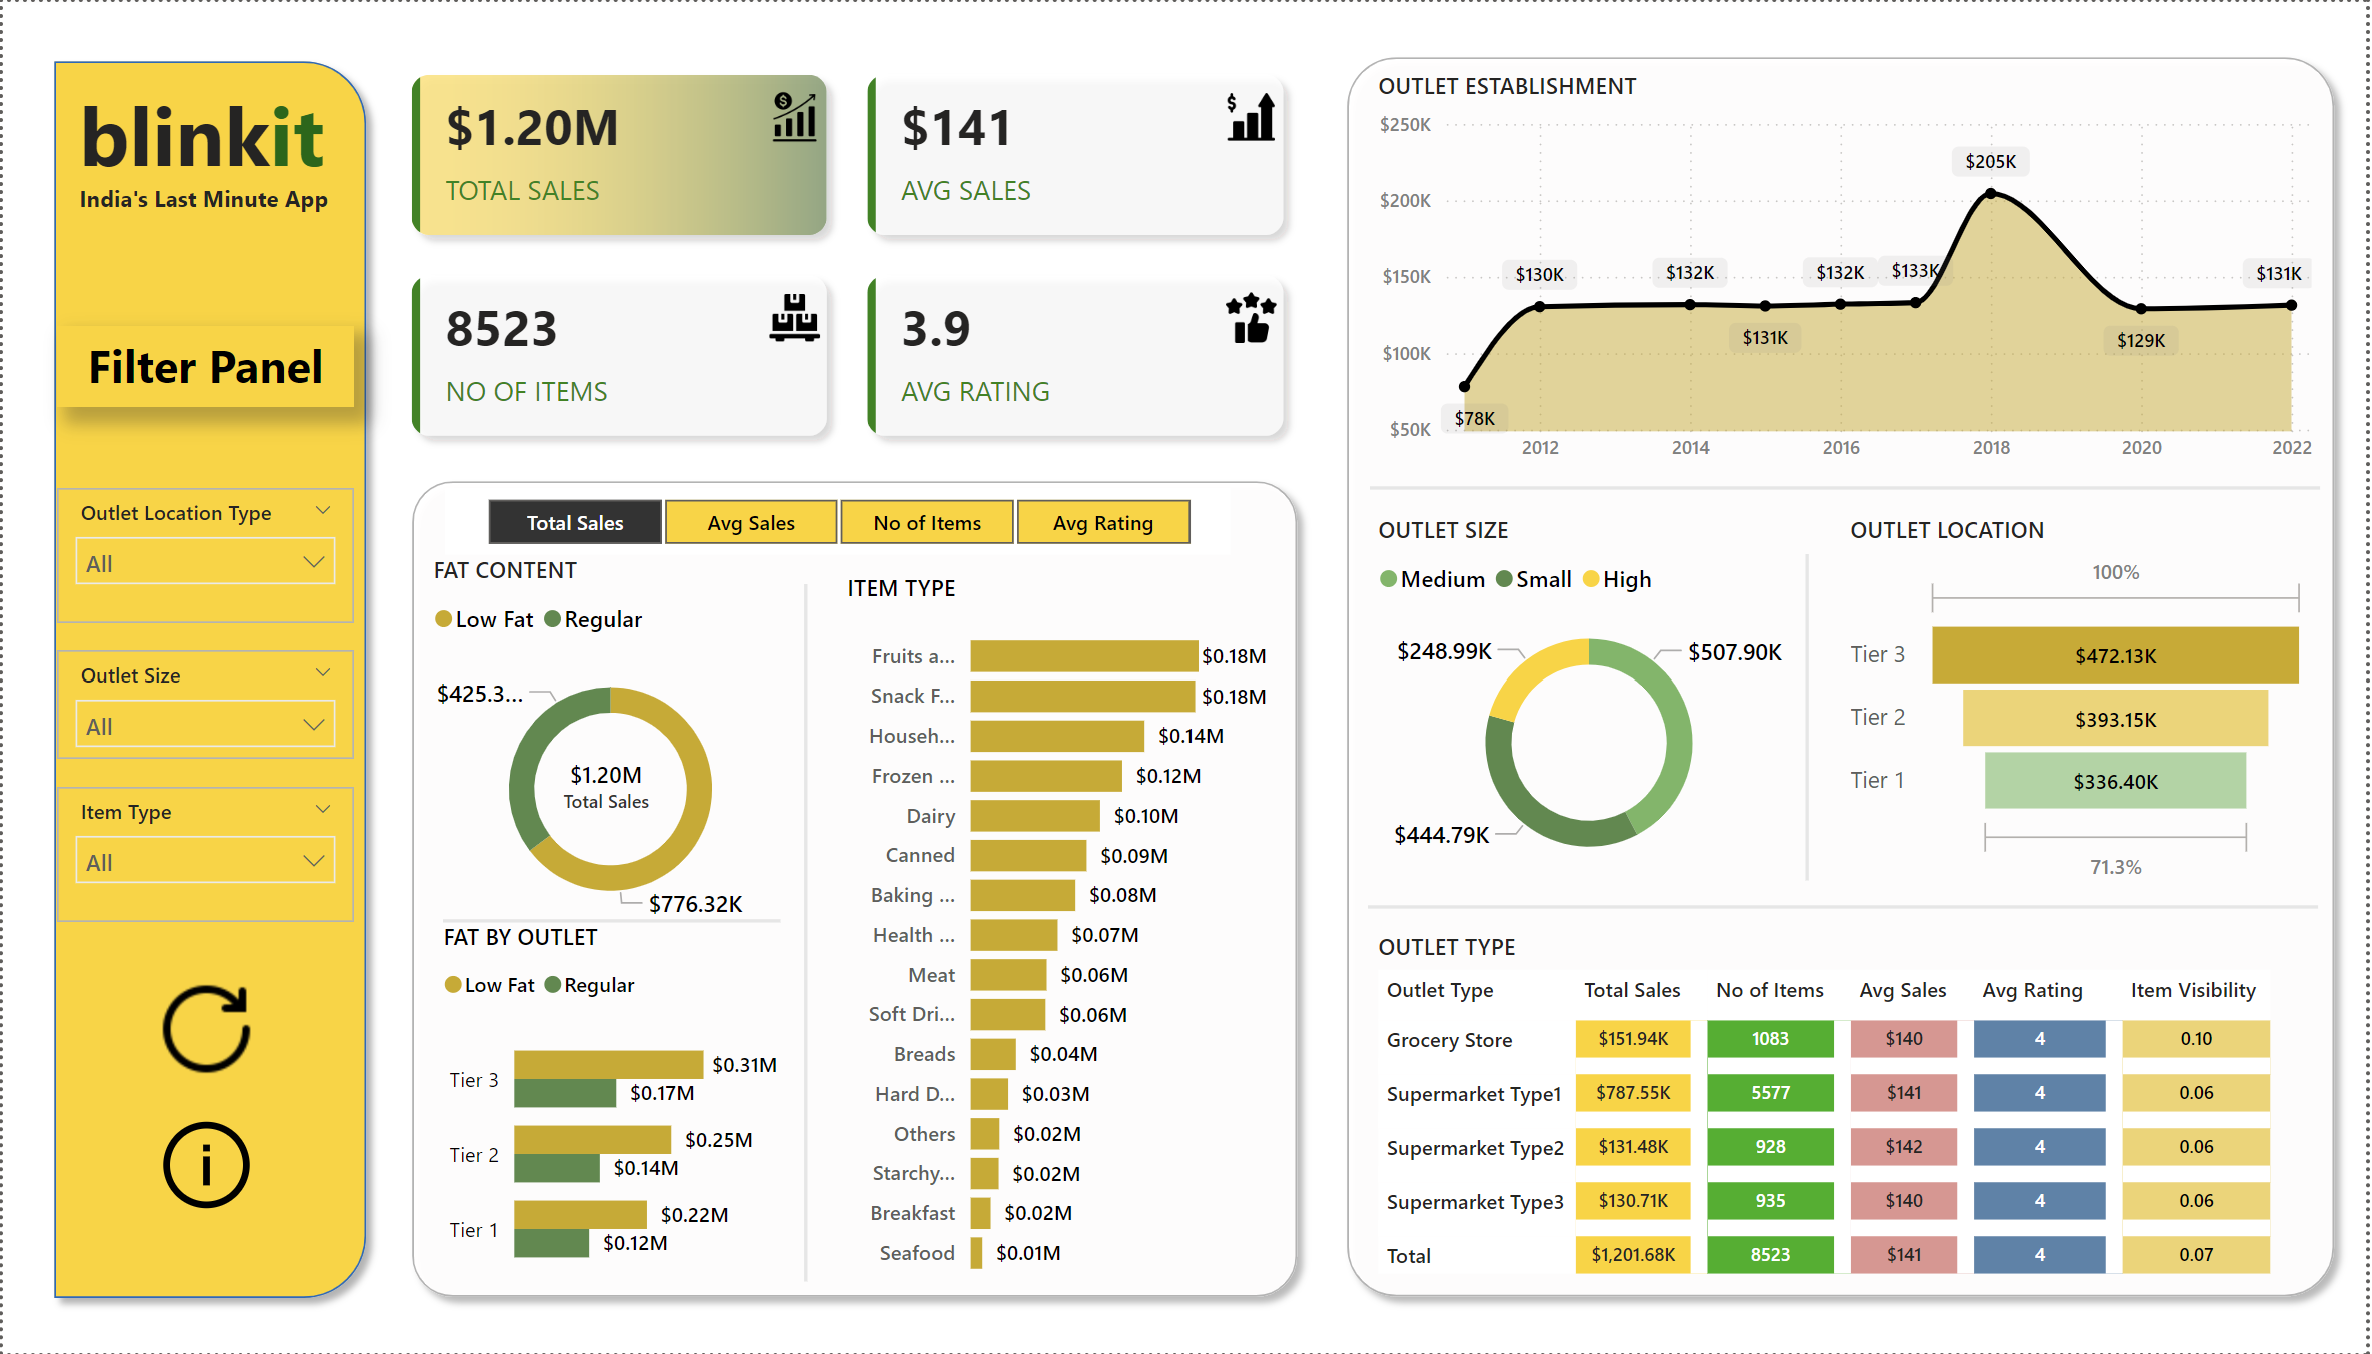

Layout of this report page (visuals, bound fields, positions):
{"tool":"powerbi","page":{"name":"Page 1","canvas":[1400,800],"ordinal":0},"visuals":[{"type":"shape","box":[21.3,25.5,202.8,750.4],"z":0},{"type":"textbox","box":[28.4,39.7,178.7,90.8],"z":1000},{"type":"textbox","box":[39.7,102.1,184.4,28.4],"z":2000},{"type":"cardVisual","fields":{"Data":["BlinkIT Grocery Data.Total Sales","BlinkIT Grocery Data.Avg Sales","BlinkIT Grocery Data.No of Items","BlinkIT Grocery Data.Avg Rating"]},"box":[225.5,25.5,550.4,249.6],"z":3000},{"type":"shape","box":[234,275.2,541.8,500.7],"z":4000},{"type":"donutChart","title":"FAT CONTENT","fields":{"Y":["BlinkIT Grocery Data.Total Sales"],"Category":["BlinkIT Grocery Data.Item Fat Content"]},"box":[249.6,327.7,219.9,229.8],"z":5000},{"type":"slicer","fields":{"Values":["Matrics.Matrics"]},"box":[262.4,287.9,465.2,39.7],"z":6000},{"type":"cardVisual","fields":{"Data":["BlinkIT Grocery Data.Total Sales"]},"box":[297.9,415.6,120.6,95],"z":7000},{"type":"clusteredBarChart","title":"FAT BY OUTLET","fields":{"Y":["BlinkIT Grocery Data.Total Sales"],"Category":["BlinkIT Grocery Data.Outlet Location Type"],"Series":["BlinkIT Grocery Data.Item Fat Content"]},"box":[256,544,208,224],"z":8000},{"type":"shape","box":[260.3,537.2,200,14.1],"z":9000},{"type":"shape","box":[469.5,344.7,12.8,412.8],"z":10000},{"type":"barChart","title":"ITEM TYPE","fields":{"Y":["BlinkIT Grocery Data.Total Sales"],"Category":["BlinkIT Grocery Data.Item Type"]},"box":[495,337.6,258.2,427],"z":11000},{"type":"shape","box":[787.2,24.1,602.8,751.8],"z":12000},{"type":"lineChart","title":"OUTLET ESTABLISHMENT","fields":{"Category":["BlinkIT Grocery Data.Outlet Establishment Year"],"Y":["BlinkIT Grocery Data.Total Sales"]},"box":[809.9,39.7,563.1,241.1],"z":13000},{"type":"shape","box":[809.9,280.9,563.1,14.2],"z":14000},{"type":"donutChart","title":"OUTLET SIZE","fields":{"Y":["BlinkIT Grocery Data.Total Sales"],"Category":["BlinkIT Grocery Data.Outlet Size"]},"box":[809.9,303.5,259.6,222.7],"z":15000},{"type":"shape","box":[1061,327.7,15.6,192.9],"z":16000},{"type":"funnel","title":"OUTLET LOCATION","fields":{"Y":["BlinkIT Grocery Data.Total Sales"],"Category":["BlinkIT Grocery Data.Outlet Location Type"]},"box":[1089.4,303.5,280.9,222.7],"z":17000},{"type":"shape","box":[808.5,529.1,563.1,14.2],"z":18000},{"type":"pivotTable","title":"OUTLET TYPE","fields":{"Rows":["BlinkIT Grocery Data.Outlet Type"],"Values":["BlinkIT Grocery Data.Total Sales","BlinkIT Grocery Data.No of Items","BlinkIT Grocery Data.Avg Sales","BlinkIT Grocery Data.Avg Rating","Avg(BlinkIT Grocery Data.Item Visibility)"]},"box":[809.9,550.4,563.1,208.5],"z":19000},{"type":"slicer","fields":{"Values":["BlinkIT Grocery Data.Outlet Location Type"]},"box":[32,288,176,80],"z":20000},{"type":"slicer","fields":{"Values":["BlinkIT Grocery Data.Outlet Size"]},"box":[32,384,176,64],"z":21000},{"type":"slicer","fields":{"Values":["BlinkIT Grocery Data.Item Type"]},"box":[32,464,176,80],"z":22000},{"type":"actionButton","box":[80,576,80,64],"z":23000},{"type":"actionButton","box":[80,656,80,64],"z":24000},{"type":"textbox","box":[32,192,176,48],"z":25000}]}

Visuals, with their boxes in screenshot pixels (x1, y1, x2, y2), scaled from the page's 1400x800 canvas onto the 2372x1354 screenshot:
shape: [36, 43, 380, 1313]
textbox: [48, 67, 351, 221]
textbox: [67, 173, 380, 221]
cardVisual - BlinkIT Grocery Data.Total Sales x BlinkIT Grocery Data.Avg Sales: [382, 43, 1315, 466]
shape: [396, 466, 1314, 1313]
"FAT CONTENT" donutChart: [423, 555, 795, 944]
slicer - Matrics.Matrics: [445, 487, 1233, 554]
cardVisual - BlinkIT Grocery Data.Total Sales: [505, 703, 709, 864]
"FAT BY OUTLET" clusteredBarChart: [434, 921, 786, 1300]
shape: [441, 909, 780, 933]
shape: [795, 583, 817, 1282]
"ITEM TYPE" barChart: [839, 571, 1276, 1294]
shape: [1334, 41, 2355, 1313]
"OUTLET ESTABLISHMENT" lineChart: [1372, 67, 2326, 475]
shape: [1372, 475, 2326, 499]
"OUTLET SIZE" donutChart: [1372, 514, 1812, 891]
shape: [1798, 555, 1824, 881]
"OUTLET LOCATION" funnel: [1846, 514, 2322, 891]
shape: [1370, 896, 2324, 920]
"OUTLET TYPE" pivotTable: [1372, 932, 2326, 1284]
slicer - BlinkIT Grocery Data.Outlet Location Type: [54, 487, 352, 623]
slicer - BlinkIT Grocery Data.Outlet Size: [54, 650, 352, 758]
slicer - BlinkIT Grocery Data.Item Type: [54, 785, 352, 921]
actionButton: [136, 975, 271, 1083]
actionButton: [136, 1110, 271, 1219]
textbox: [54, 325, 352, 406]
